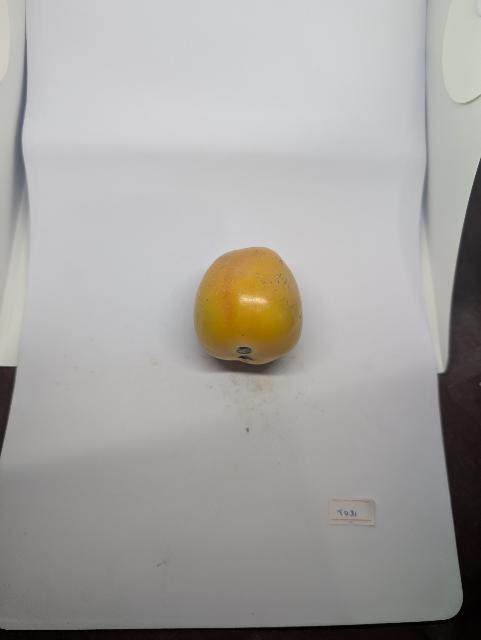turning: (187, 240, 314, 380)
